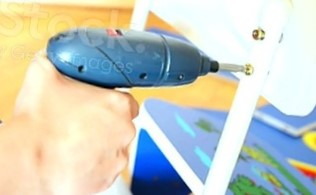driller: (41, 25, 246, 134)
